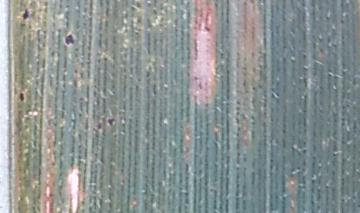tarspot: (62, 31, 76, 47), (105, 116, 116, 127), (21, 7, 30, 20), (96, 121, 104, 133), (18, 91, 26, 102), (204, 24, 212, 32), (198, 82, 203, 89), (194, 75, 199, 81)
